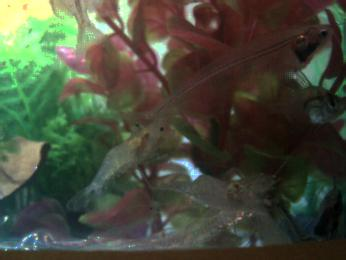X-ray fish: (275, 73, 346, 133), (49, 1, 117, 61)
glassfish: (135, 23, 334, 122)
siberian prawn: (75, 119, 177, 211), (149, 173, 273, 220)
